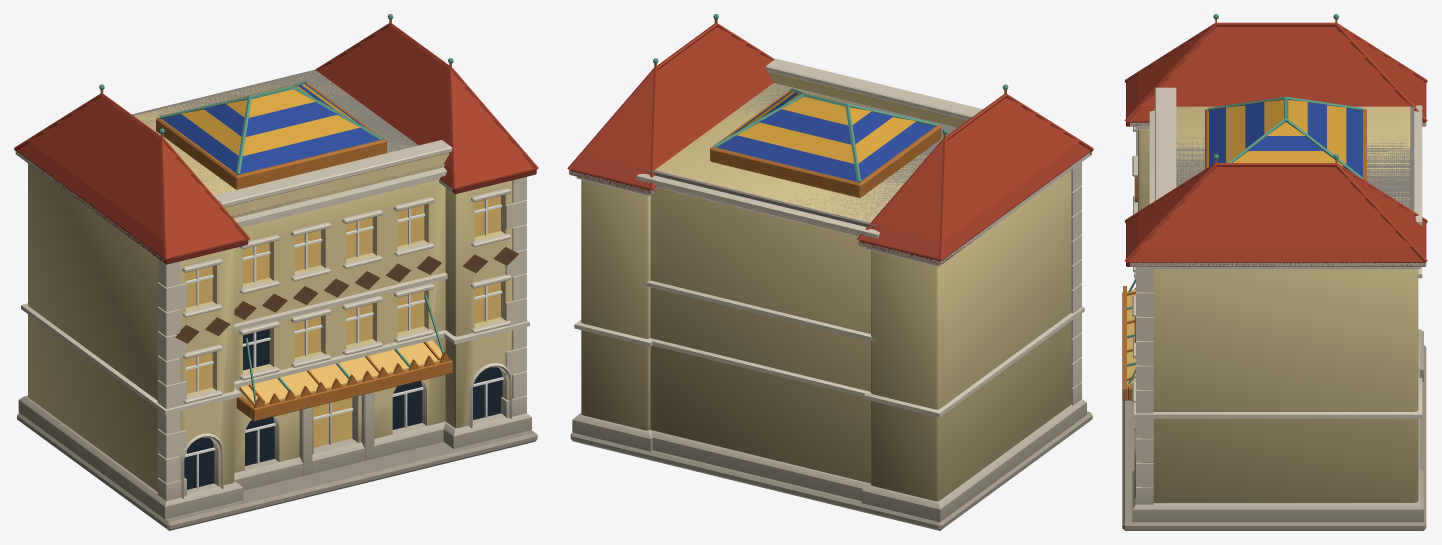
File: bh_fordyce.glb
3 views of the same model, side by side, from view 1: azimuth 30°, elevation 25°; view 2: azimuth 150°, elevation 25°; view 3: azimuth 270°, elevation 25° (orthographic).
Parts seen in each view (by area): view 1: bh_fordyce; view 2: bh_fordyce; view 3: bh_fordyce.
Boxes of the visible parts, x1,y1,x2,y2 form: bh_fordyce: (14,14,538,530); bh_fordyce: (567,14,1093,530); bh_fordyce: (1122,14,1427,530).
Size of the model in its own units: 0.0218 by 0.02 by 0.0155.
